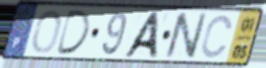9: (101, 11, 128, 56)
A: (120, 10, 163, 60)
C: (199, 13, 234, 60)
D: (53, 8, 93, 56)
N: (163, 11, 209, 61)
O: (31, 8, 64, 55)
